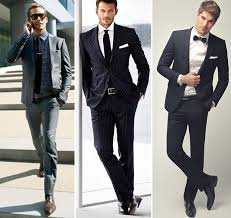F_M_suit jacket: (152, 22, 231, 106), (74, 23, 157, 101), (1, 32, 74, 103)
F_belt: (20, 90, 66, 107), (96, 85, 128, 99)
F_dress pants: (165, 104, 214, 202)
F_tie: (100, 25, 111, 62)
